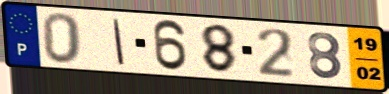0: (40, 11, 83, 66)
2: (255, 27, 296, 78)
6: (151, 18, 189, 73)
8: (198, 22, 239, 75), (306, 31, 344, 81)
I: (111, 17, 128, 67)
